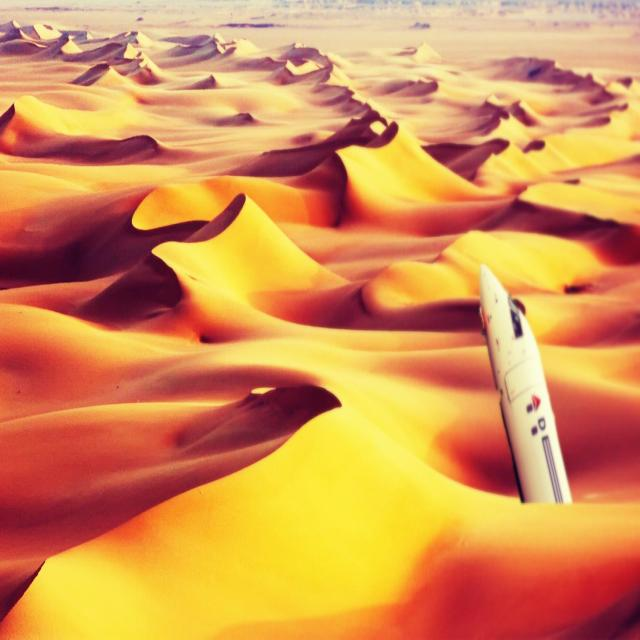airplane: (478, 262, 572, 506)
